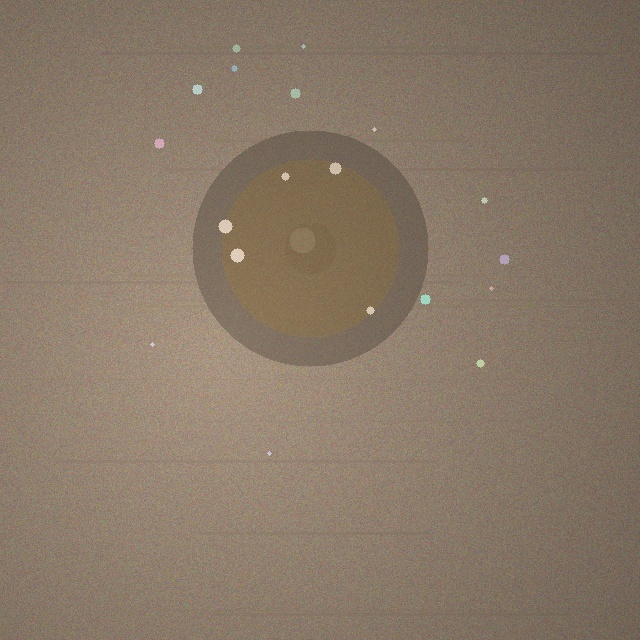overburn: (192, 130, 428, 366)
